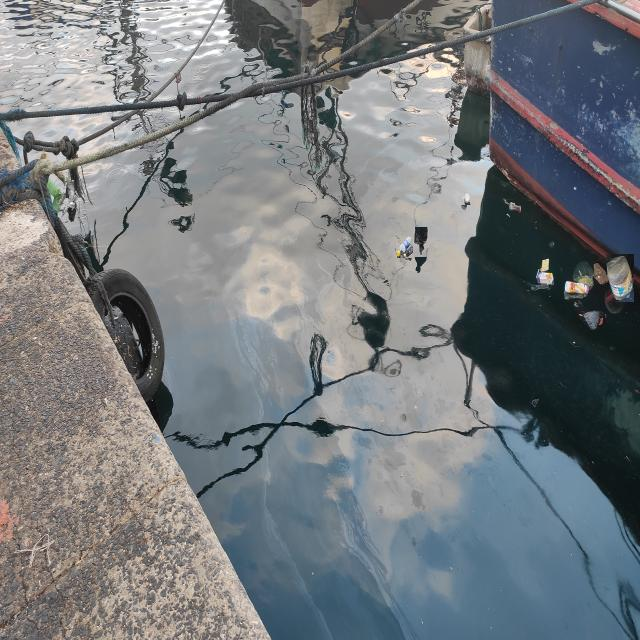Juice box: (536, 268, 554, 285)
Plastic: (531, 396, 540, 410), (548, 239, 555, 250)
Plastic bag: (573, 298, 608, 333), (572, 260, 595, 292), (413, 227, 429, 257), (61, 200, 78, 224)
Plastic bottle: (606, 254, 634, 302), (396, 235, 413, 258), (564, 280, 590, 295), (46, 178, 62, 200), (395, 244, 406, 258), (66, 180, 74, 198), (461, 193, 471, 205)
Plastic cup: (509, 203, 522, 214)
Plastic packaging: (540, 258, 550, 272)
